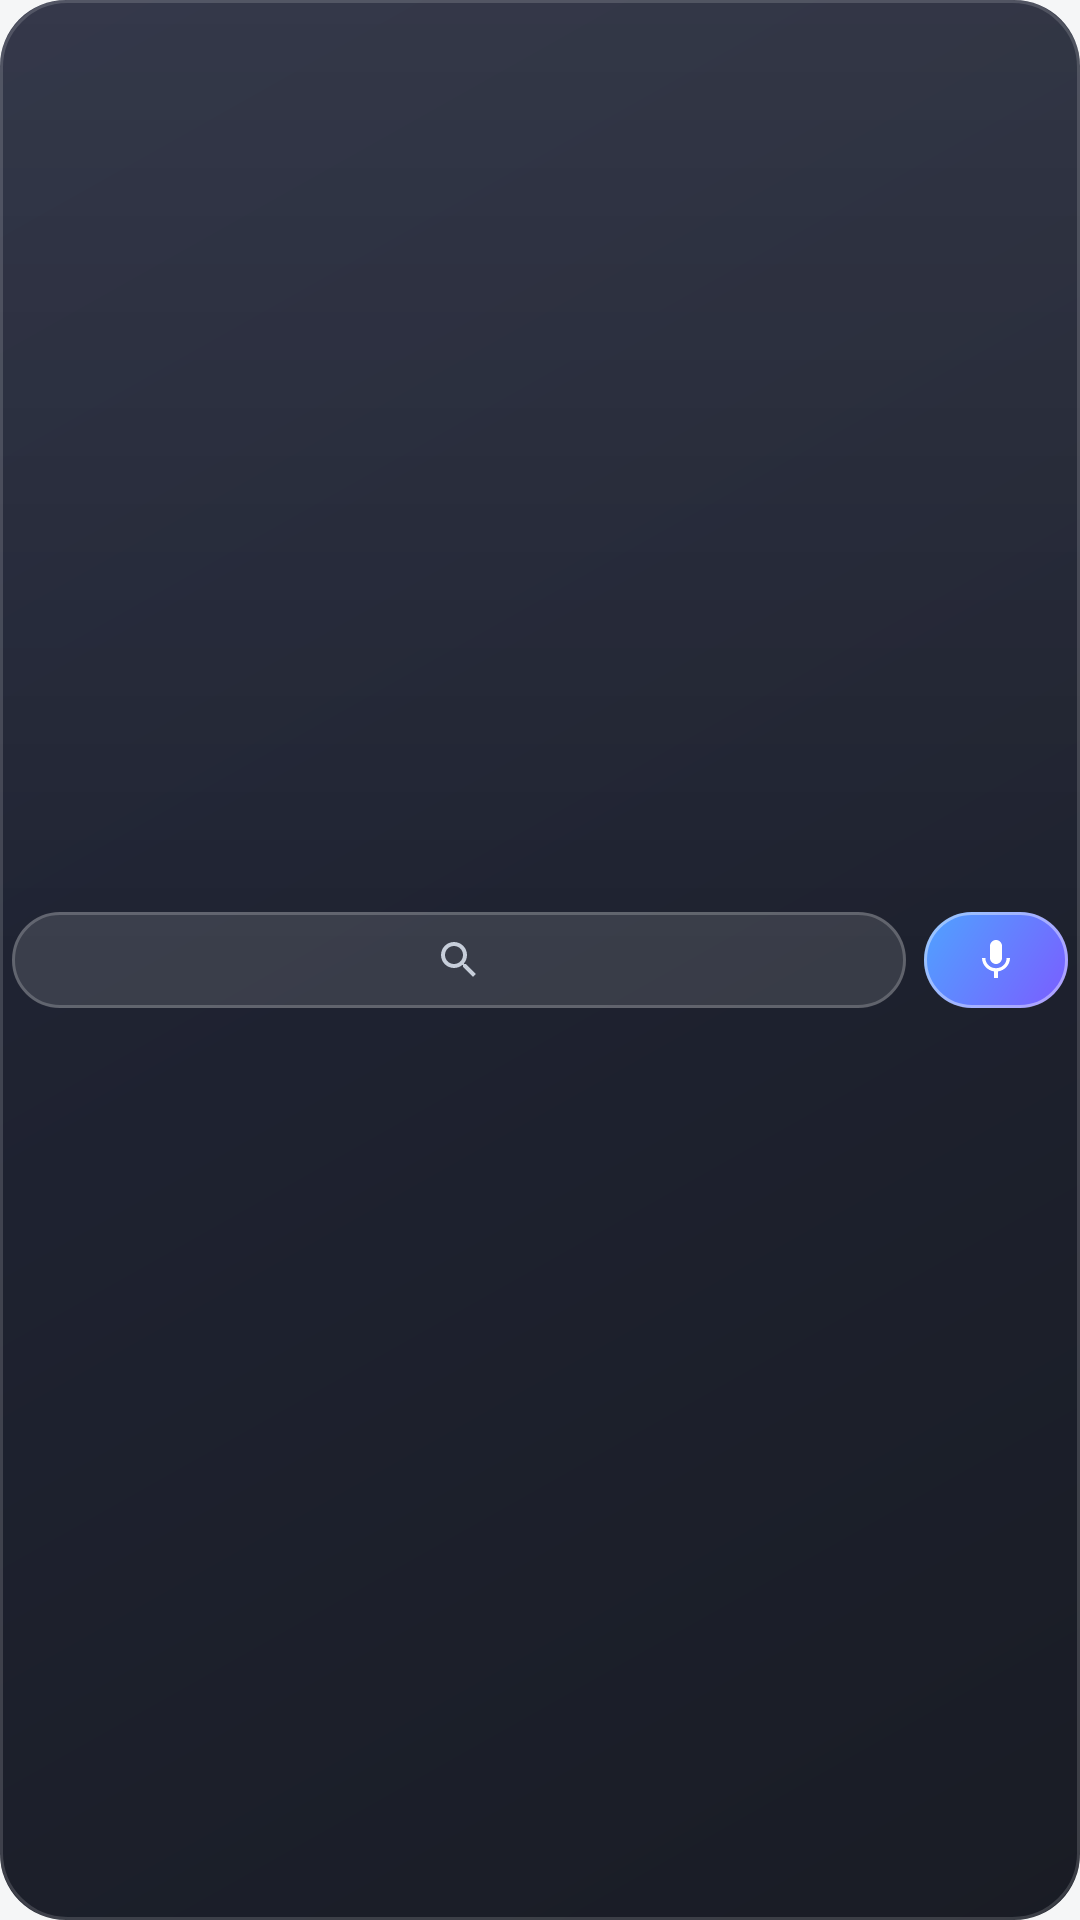

Screen size 1080×1920. Icon name, then its box in pixels as (x1, y1, x2, y2):
Detect song: (924, 912, 1068, 1008)
widget search: (441, 942, 476, 977)
